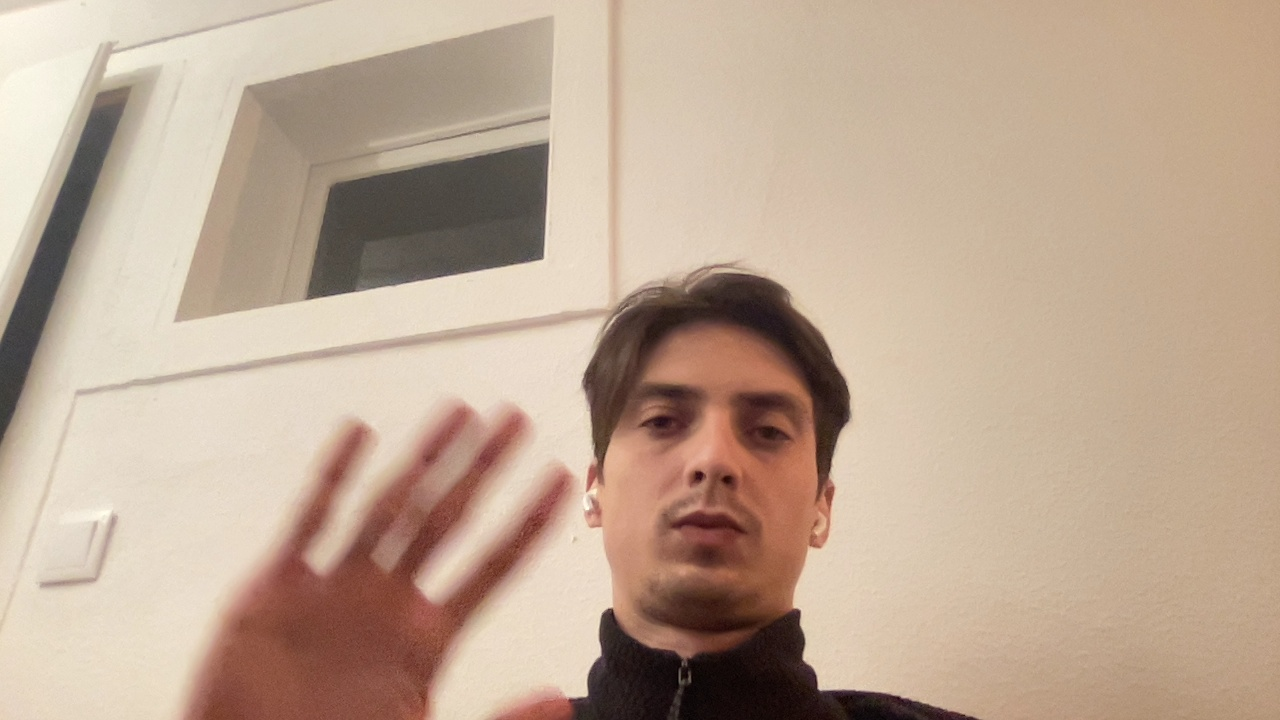Hello: (92, 397, 599, 719)
